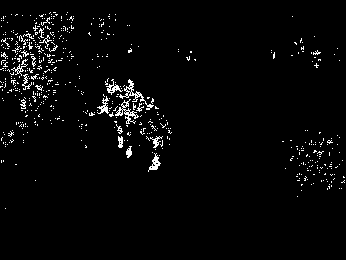person: (137, 96, 173, 173), (97, 75, 129, 149), (118, 77, 146, 159)
